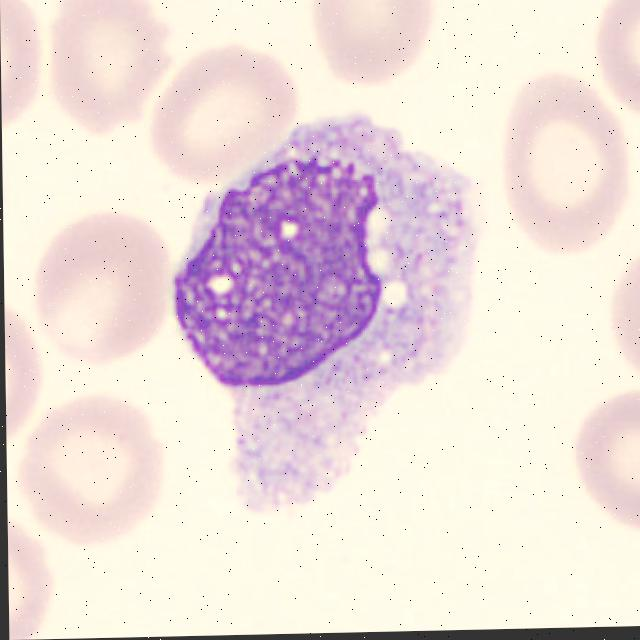monocyte: (179, 152, 499, 527)
rbc: (153, 33, 309, 183), (503, 72, 628, 258), (20, 388, 160, 544), (38, 219, 172, 368), (46, 0, 179, 138), (311, 0, 440, 96), (566, 389, 640, 552), (4, 296, 49, 450), (585, 0, 640, 121), (0, 0, 44, 150), (596, 238, 640, 378), (8, 518, 54, 640)
